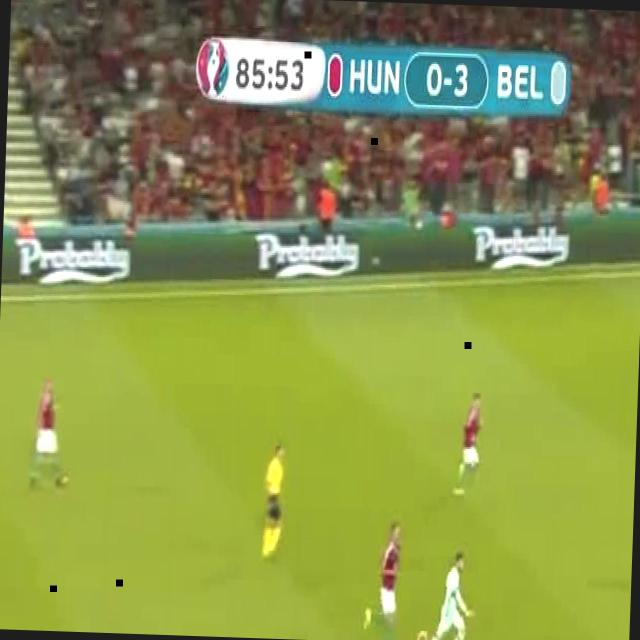player-white: (363, 519, 402, 640), (29, 378, 70, 489), (422, 550, 472, 640), (259, 440, 287, 559), (453, 392, 483, 498), (384, 631, 428, 640)
